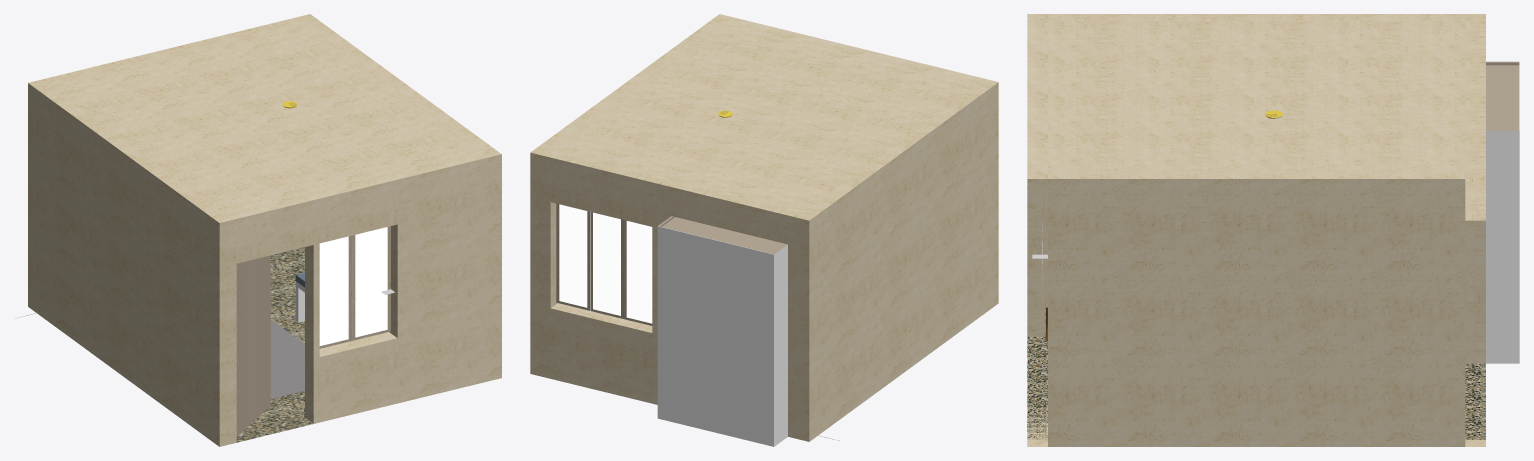
The model's file is room.glb.
3 views of the same model, side by side, from view 1: azimuth 30°, elevation 25°; view 2: azimuth 150°, elevation 25°; view 3: azimuth 270°, elevation 25° (orthographic). The views are drawn at different scales.
Parts seen in each view (by area): view 1: Group12, Group291, Group280, Group13, Group254, Group257, Group289, Group252, Group255, Group258; view 2: Group12, Group291, Group753, Group749, Group264, Group262, Group267, Group289, Group265, Group261; view 3: Group289, Group291, Group12, Group749, Group13.
Boxes of the visible parts, x1,y1,x2,y2 form: Group12: (28,14,501,446); Group291: (50,23,479,213); Group280: (236,255,270,436); Group13: (236,248,313,442); Group254: (355,227,387,337); Group257: (319,236,348,345); Group289: (306,20,492,150); Group252: (270,319,304,398); Group255: (352,226,390,340); Group258: (319,235,351,348); Group12: (530,14,998,441); Group291: (552,23,976,211); Group753: (657,226,774,446); Group749: (658,216,787,446); Group264: (559,204,587,307); Group262: (593,212,620,315); Group267: (626,221,652,323); Group289: (539,20,723,149); Group265: (556,203,589,310); Group261: (590,212,623,318); Group289: (1048,171,1465,446); Group291: (1048,21,1465,171); Group12: (1027,14,1485,446); Group749: (1486,61,1519,363); Group13: (1027,337,1485,439).
Size of the model in its own units: 35.64 by 25.11 by 41.64.
Materials: 116 (42 with a texture image).
